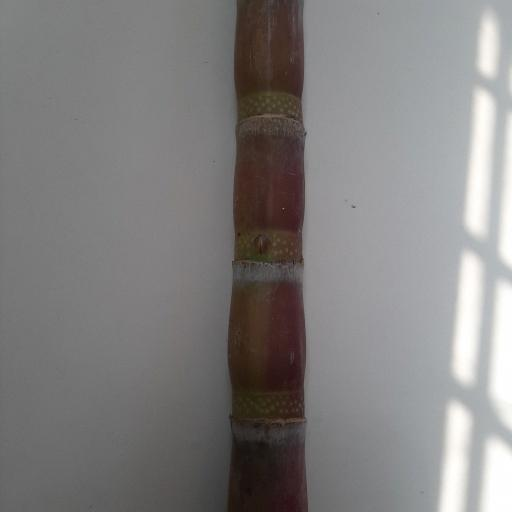Bud: (249, 234, 273, 258)
